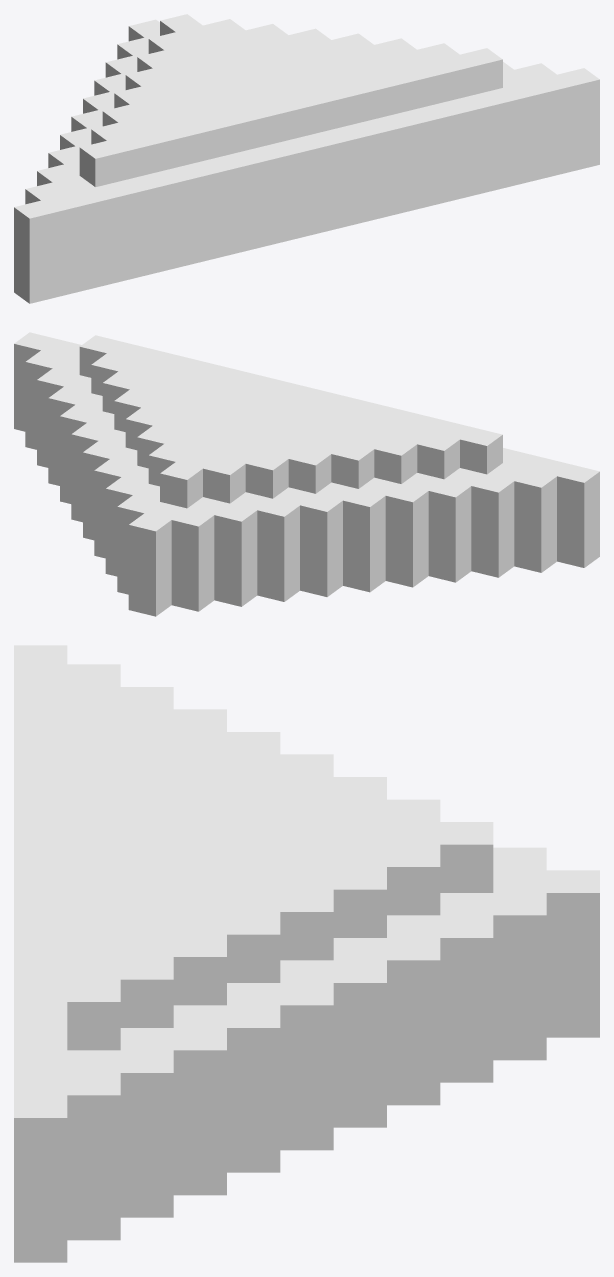
The model's file is UpDownButton.vox-0.obj.
3 renders of one model, top to bottom at view 1: azimuth 30°, elevation 25°; view 2: azimuth 150°, elevation 25°; view 3: azimuth 270°, elevation 25°, orthographic. The views are drawn at different scales.
Bounding box in the file's own units: 2.1 × 0.4 × 1.1.
1 material, 1 textured.
